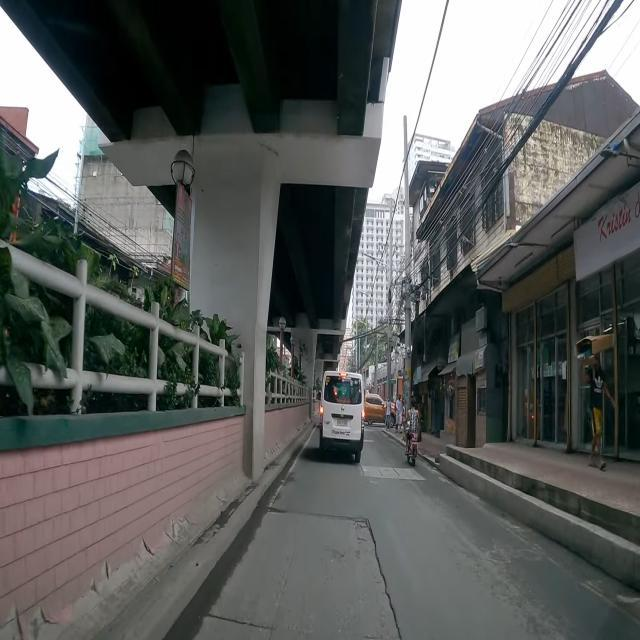car: (320, 371, 365, 464), (364, 394, 397, 427)
motorcycle: (404, 399, 422, 467)
